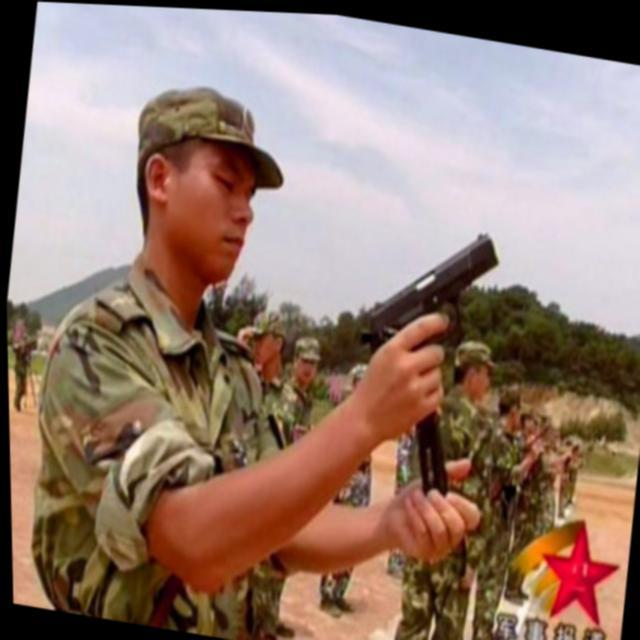weapon: (327, 206, 512, 579)
